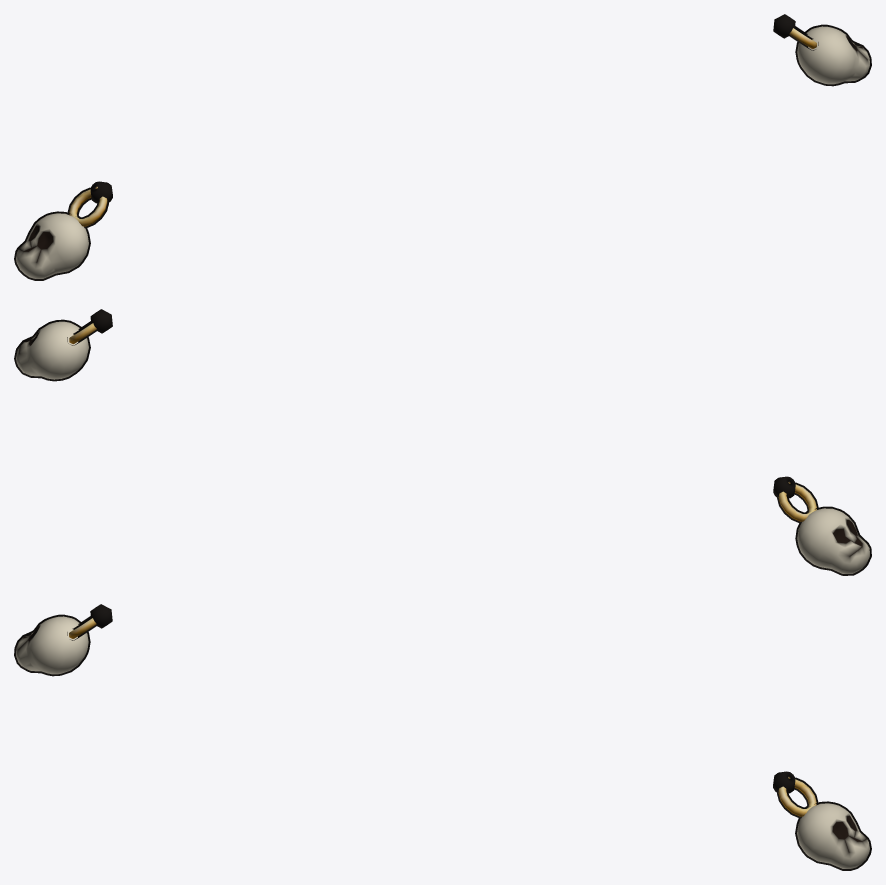
Rendered from earring_skull_male_hi.glb.
3 renders of one model, top to bottom at view 1: azimuth 30°, elevation 25°; view 2: azimuth 150°, elevation 25°; view 3: azimuth 330°, elevation 25°, orthographic.
Visible parts, largest first — view 1: earring_skull_male_hi; view 2: earring_skull_male_hi; view 3: earring_skull_male_hi.
Part boxes in pixels (box(x1,y1,x2,y2)): earring_skull_male_hi: box(14, 14, 871, 280); earring_skull_male_hi: box(14, 309, 871, 575); earring_skull_male_hi: box(14, 604, 871, 870).
Bounding box in the file's own units: 0.5764 × 0.0524 × 0.0409.
